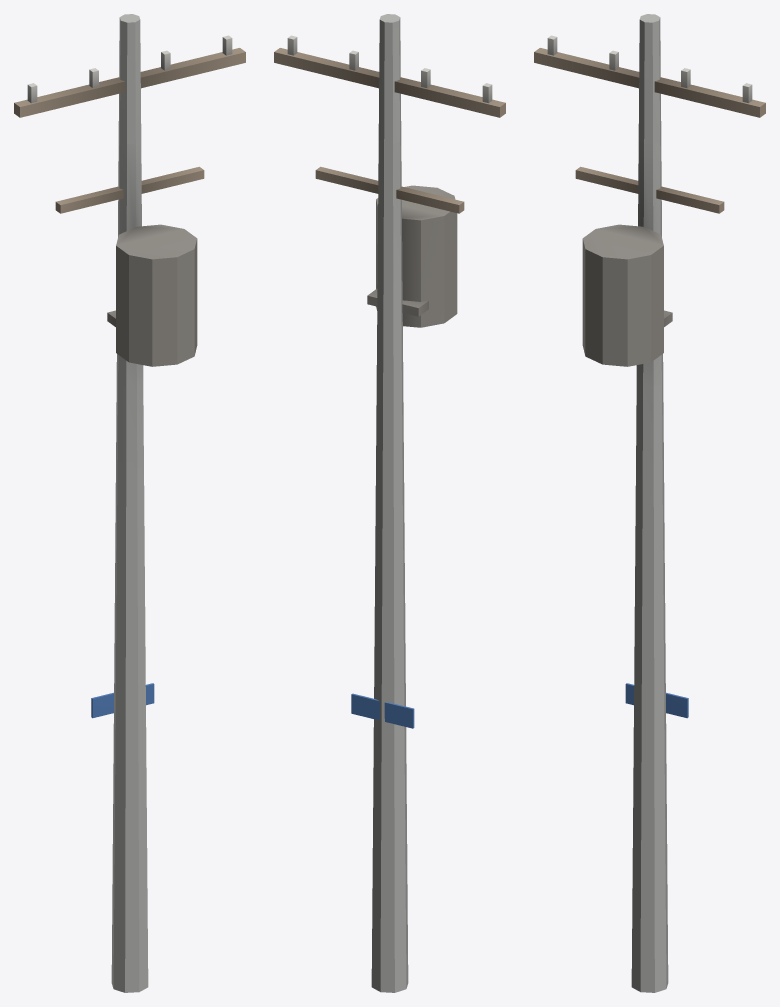
Rendered from poste_trafo.glb.
3 renders of one model, left to right at view 1: azimuth 30°, elevation 25°; view 2: azimuth 150°, elevation 25°; view 3: azimuth 330°, elevation 25°, orthographic.
Visible parts, largest first — view 1: poste, trafo, cruzeta, placa_rua; view 2: poste, trafo, cruzeta, placa_rua, trafo_suporte; view 3: poste, trafo, cruzeta, placa_rua.
Part boxes in pixels (x1,y1,x2,y2): poste: (111, 14, 148, 992); trafo: (116, 224, 197, 366); cruzeta: (14, 35, 245, 213); placa_rua: (91, 683, 154, 718); poste: (371, 14, 408, 992); trafo: (376, 185, 457, 327); cruzeta: (274, 35, 505, 213); placa_rua: (351, 693, 414, 728); trafo_suporte: (367, 288, 428, 316); poste: (631, 14, 668, 992); trafo: (582, 224, 663, 366); cruzeta: (534, 35, 765, 213); placa_rua: (625, 683, 688, 718).
Size of what is drawn, in the model's own units: 2.2 by 9 by 0.96.
